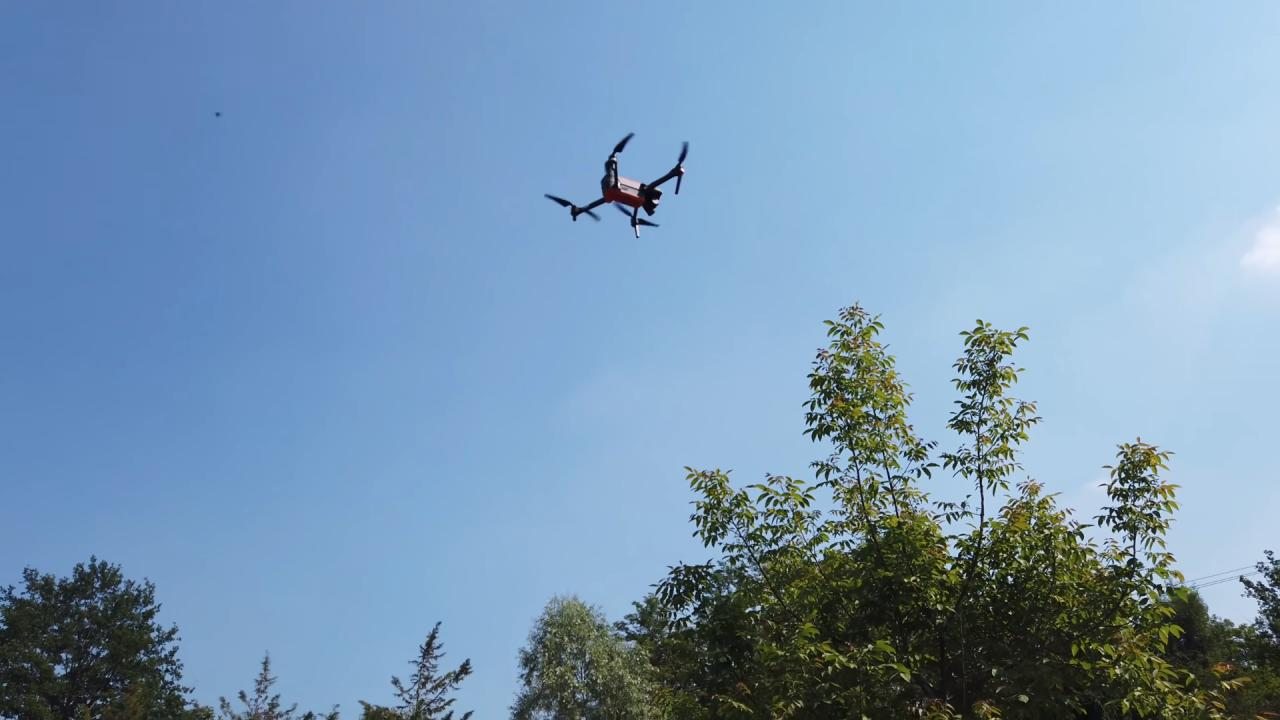Drone: (531, 121, 707, 250)
